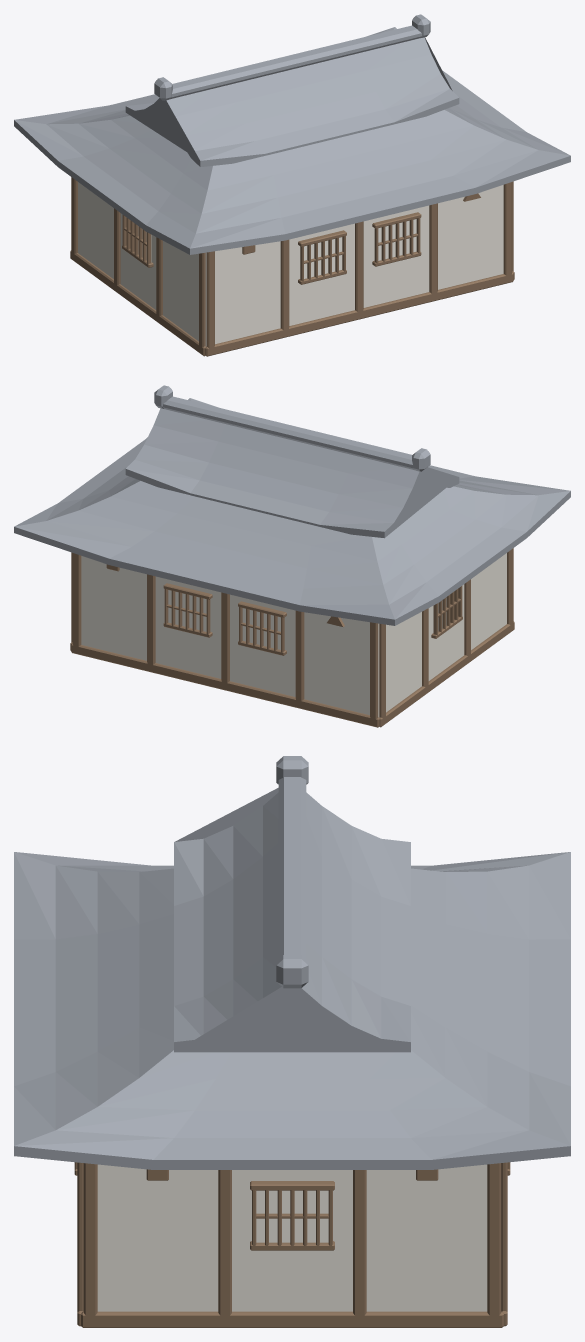
Rendered from feudal-japan-castle-town-keep-annex-wing-ab498605__26547.glb.
3 renders of one model, top to bottom at view 1: azimuth 30°, elevation 25°; view 2: azimuth 150°, elevation 25°; view 3: azimuth 270°, elevation 25°, orthographic. The views are drawn at different scales.
Visible parts, largest first — view 1: keep-annex-wing; view 2: keep-annex-wing; view 3: keep-annex-wing.
Part boxes in pixels (x1,y1,x2,y2): keep-annex-wing: (14, 14, 570, 356); keep-annex-wing: (14, 385, 570, 727); keep-annex-wing: (14, 756, 570, 1327).
Size of the model in its own units: 10 by 5.56 by 8.
